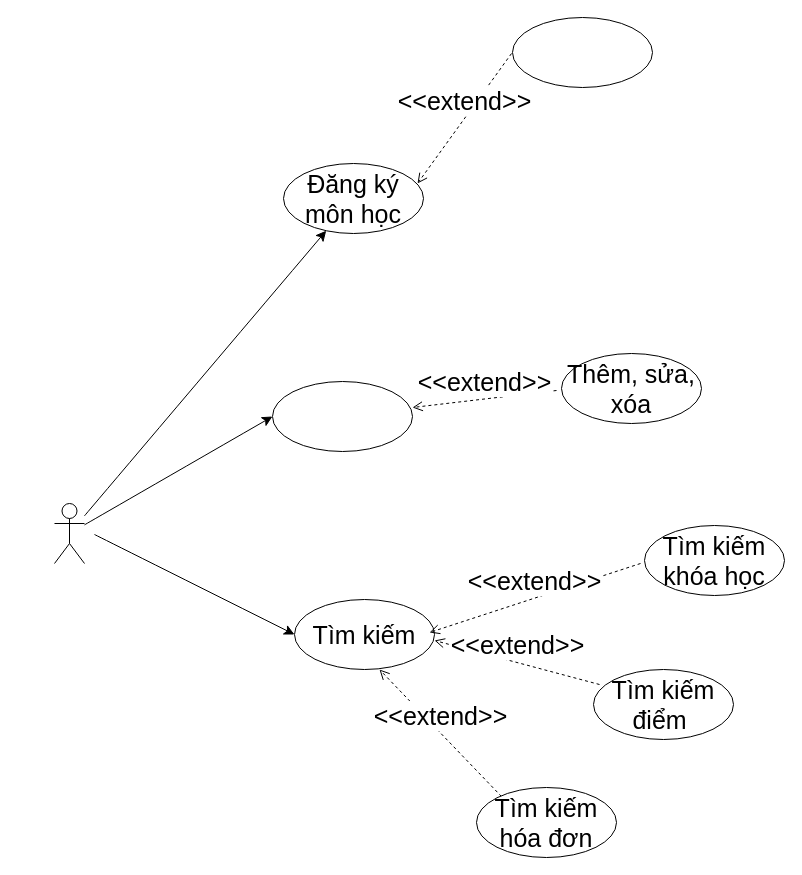
The diagram is 802 pixels wide and 875 high, and some of its shapes have lost their labels. Each missing label, with the box of its shape:
Quản lí thông tin cá nhân: (272, 380, 412, 452)
Quản lý lịch học: (512, 16, 652, 88)
SInh viên: (54, 502, 84, 564)
